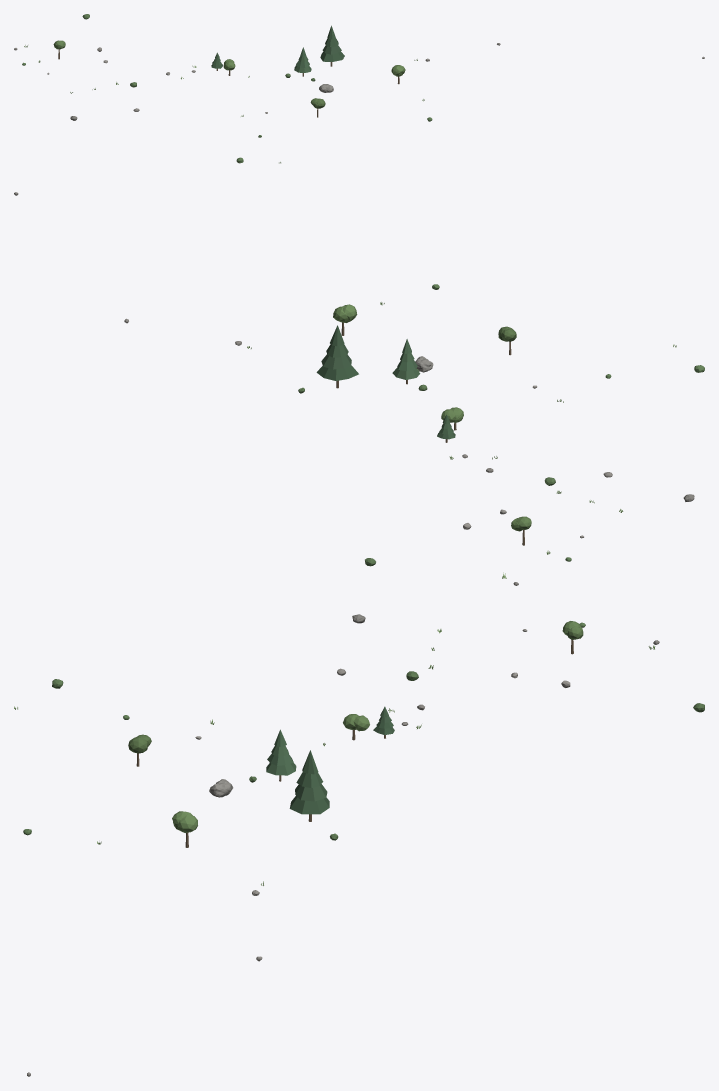
Rendered from arch_land_scatter_c19_21.glb.
3 renders of one model, top to bottom at view 1: azimuth 30°, elevation 25°; view 2: azimuth 150°, elevation 25°; view 3: azimuth 270°, elevation 25°, orthographic. The views are drawn at different scales.
Visible parts, largest first — view 1: arch_land_scatter_c19_21; view 2: arch_land_scatter_c19_21; view 3: arch_land_scatter_c19_21.
Part boxes in pixels (bbox=[...]): arch_land_scatter_c19_21: bbox=[14, 14, 704, 163]; arch_land_scatter_c19_21: bbox=[14, 192, 704, 585]; arch_land_scatter_c19_21: bbox=[14, 614, 704, 1076].
Size of the model in its own units: 206 by 17.41 by 132.
